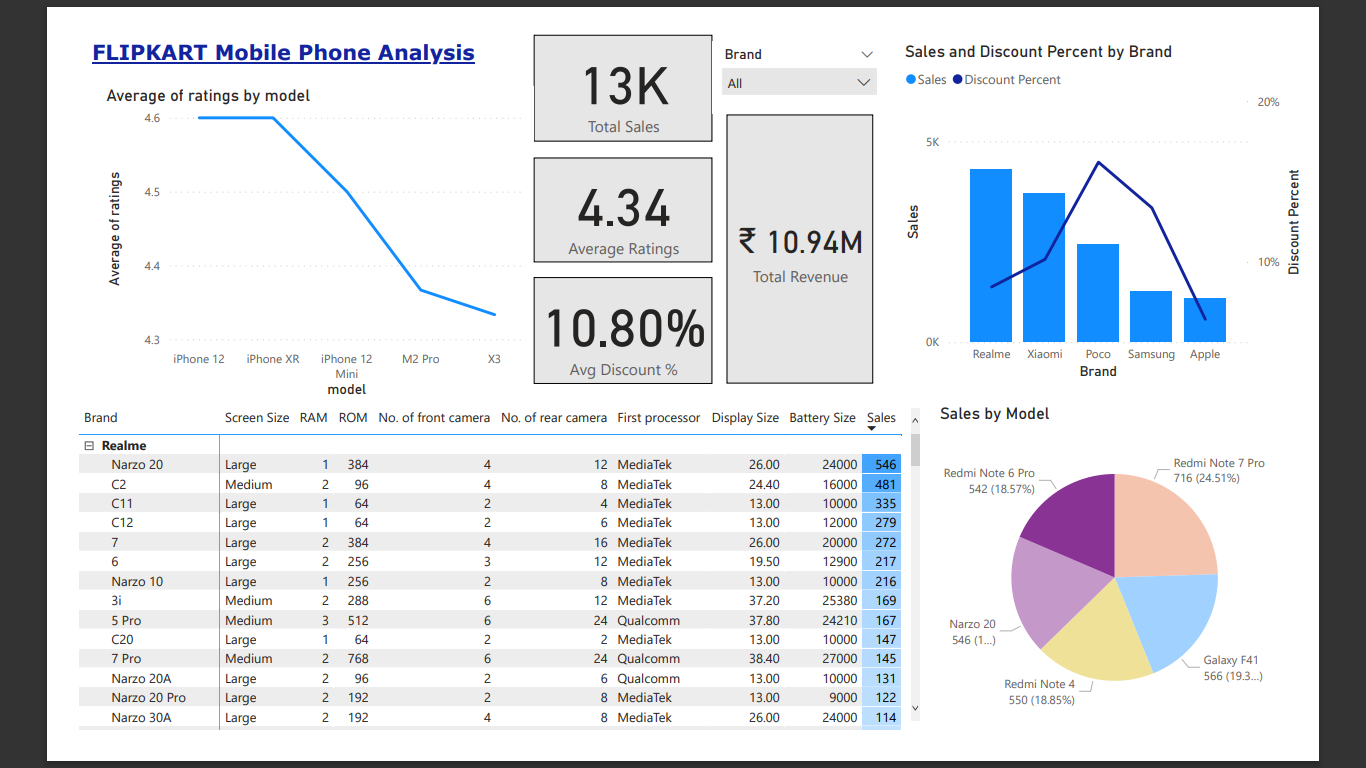

This screenshot's page, from the dashboard's own definition file:
{"tool":"powerbi","page":{"name":"Page 1","canvas":[1280,720],"ordinal":0},"visuals":[{"type":"lineStackedColumnComboChart","fields":{"Category":["Flipkart Mobile.brand"],"Y":["Sum(Flipkart Mobile.sales)"],"Y2":["Avg(Flipkart Mobile.discount_percent)"]},"box":[863.2,6.6,416.8,352.8],"z":0},{"type":"pieChart","fields":{"Category":["Flipkart Mobile.model"],"Y":["Sum(Flipkart Mobile.sales)"]},"box":[899.3,379.1,369.2,339.7],"z":1000},{"type":"card","fields":{"Values":["Sum(Flipkart Mobile.sales)"]},"box":[485.7,0,183.8,109.9],"z":2000},{"type":"pivotTable","fields":{"Rows":["Flipkart Mobile.brand","Flipkart Mobile.model"],"Values":["Min(Flipkart Mobile.screen_size)","Count(Flipkart Mobile.RAM)","Sum(Flipkart Mobile.ROM)","Sum(Flipkart Mobile.num_front_camera)","Sum(Flipkart Mobile.num_rear_camera)","Min(Flipkart Mobile.processor)","Sum(Flipkart Mobile.display_size)","Sum(Flipkart Mobile.battery_capacity)","Sum(Flipkart Mobile.sales)"]},"box":[13.1,379.1,874.7,341.3],"z":3000},{"type":"lineChart","fields":{"Y":["Avg(Flipkart Mobile.ratings)"],"Category":["Flipkart Mobile.model"]},"box":[41.8,52.5,444.6,324.7],"z":4000},{"type":"card","fields":{"Values":["Avg(Flipkart Mobile.ratings)"]},"box":[485.7,126.4,183.8,108.3],"z":5000},{"type":"card","fields":{"Values":["Avg(Flipkart Mobile.discount_percent)"]},"box":[485.7,249.4,183.8,109.9],"z":6000},{"type":"textbox","box":[26.3,0,459.5,52.5],"z":7000},{"type":"slicer","fields":{"Values":["Flipkart Mobile.brand"]},"box":[669.5,6.6,178.9,75.5],"z":7001},{"type":"card","fields":{"Values":["Sum(Flipkart Mobile.sales_price)"]},"box":[684.3,82.1,151,277.3],"z":7002}]}

Visuals, with their boxes in screenshot pixels (x1, y1, x2, y2), scaled from the page's 1280x720 canvas onto the 1366x768 screenshot:
lineStackedColumnComboChart - Flipkart Mobile.brand x Sum(Flipkart Mobile.sales): [921,7,1365,383]
pieChart - Flipkart Mobile.model x Sum(Flipkart Mobile.sales): [960,404,1354,767]
card - Sum(Flipkart Mobile.sales): [518,0,714,117]
pivotTable - Flipkart Mobile.brand x Flipkart Mobile.model: [14,404,947,767]
lineChart - Avg(Flipkart Mobile.ratings) x Flipkart Mobile.model: [45,56,519,402]
card - Avg(Flipkart Mobile.ratings): [518,135,714,250]
card - Avg(Flipkart Mobile.discount_percent): [518,266,714,383]
textbox: [28,0,518,56]
slicer - Flipkart Mobile.brand: [714,7,905,88]
card - Sum(Flipkart Mobile.sales_price): [730,88,891,383]
